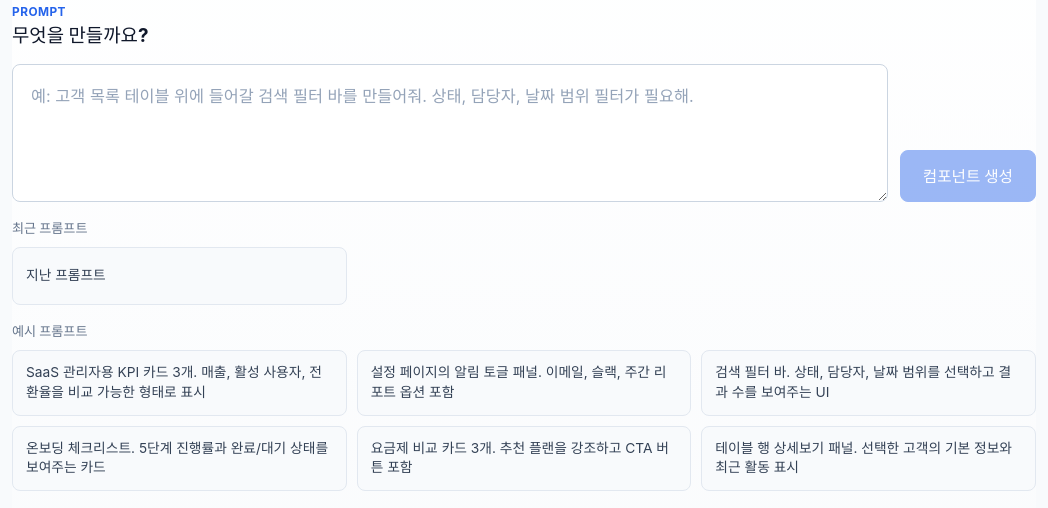
Scenario: PromptInput › 히스토리 항목을 클릭하면 입력창에 채워진다
The width and height of the screenshot is (1048, 508).
Click the button "지난 프롬프트": click(66, 275) [12,247,347,305]
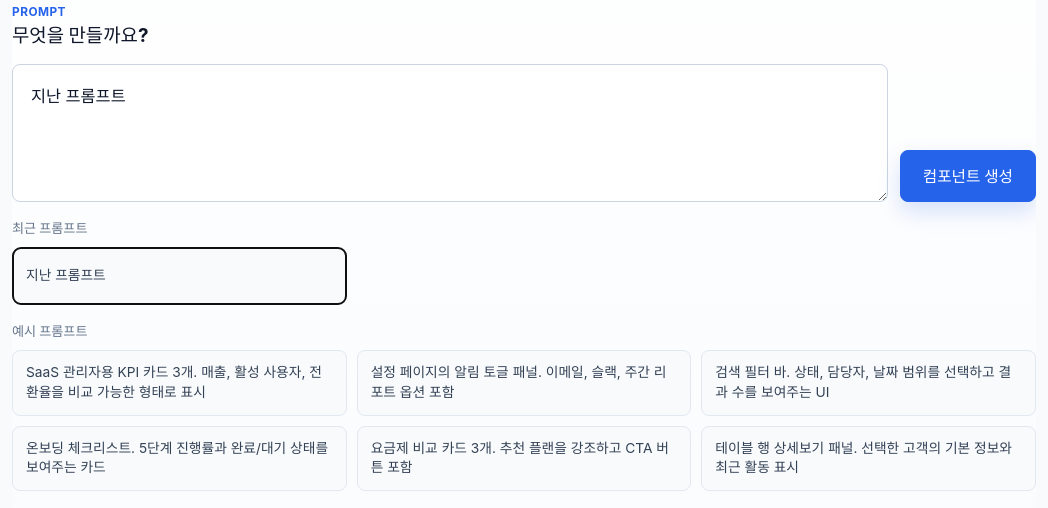
Check: the text box holds "지난 프롬프트", box [12,64,888,202]
